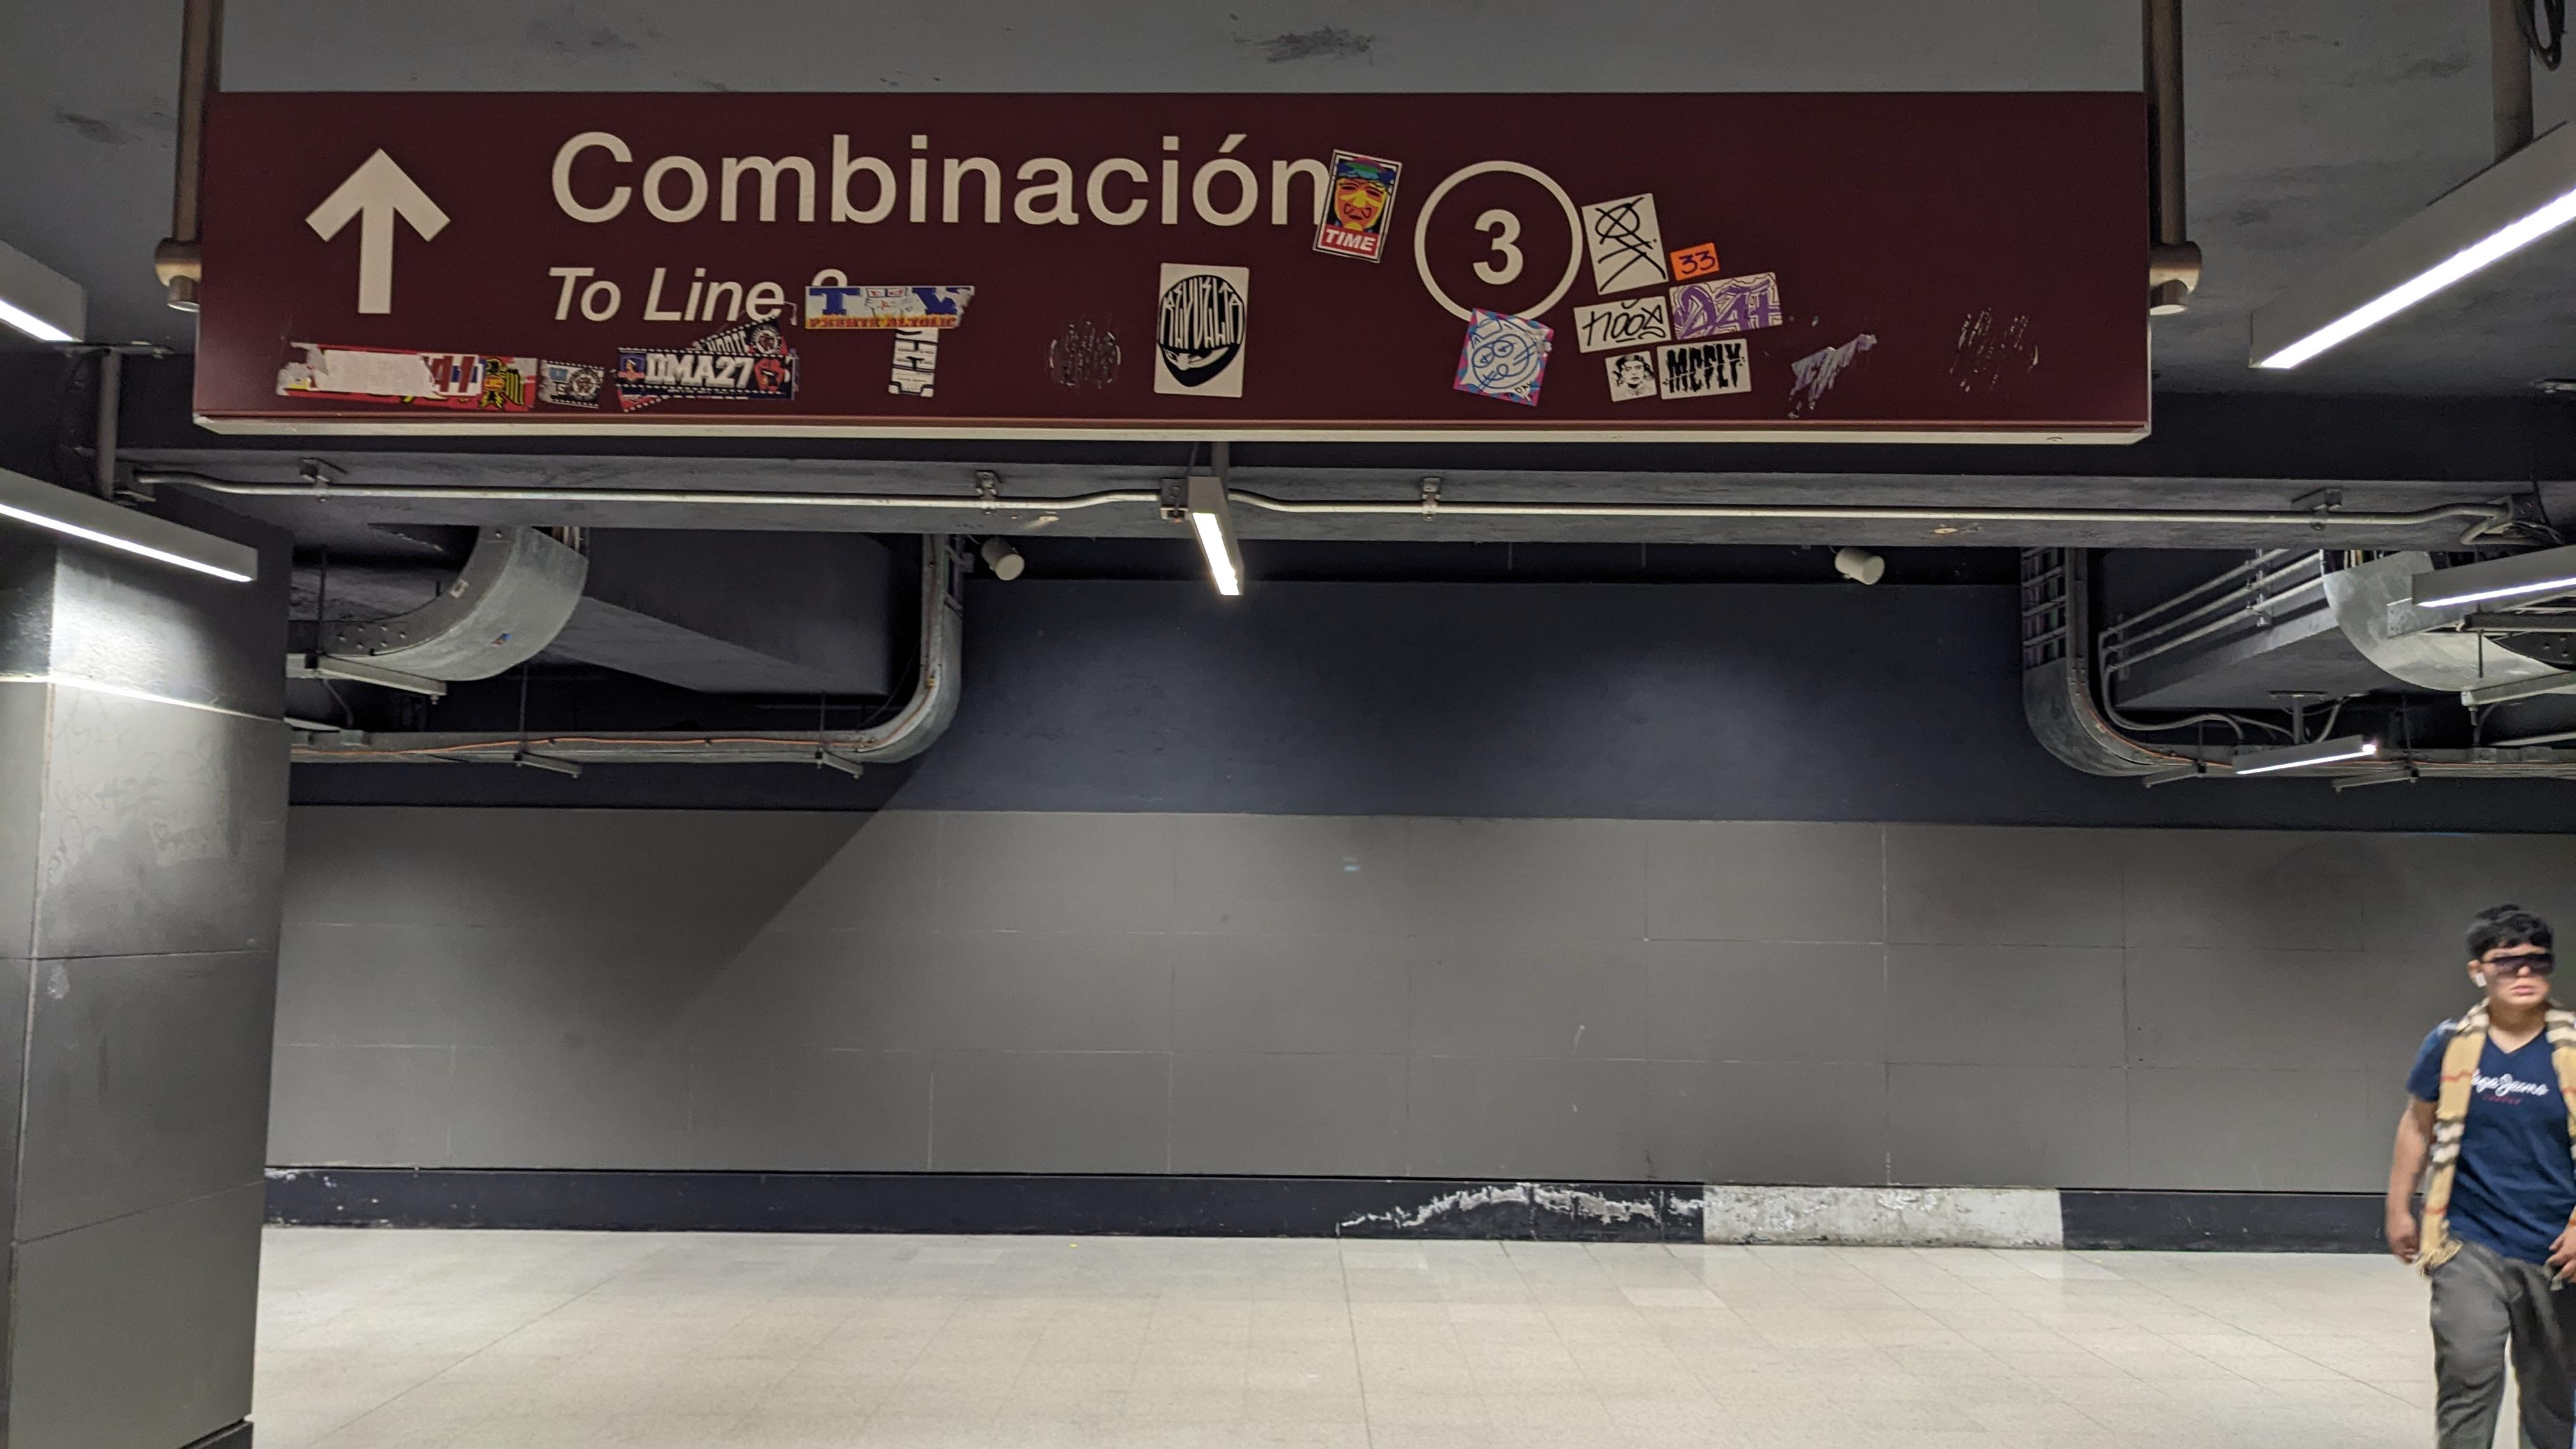up arrow: (299, 143, 455, 322)
